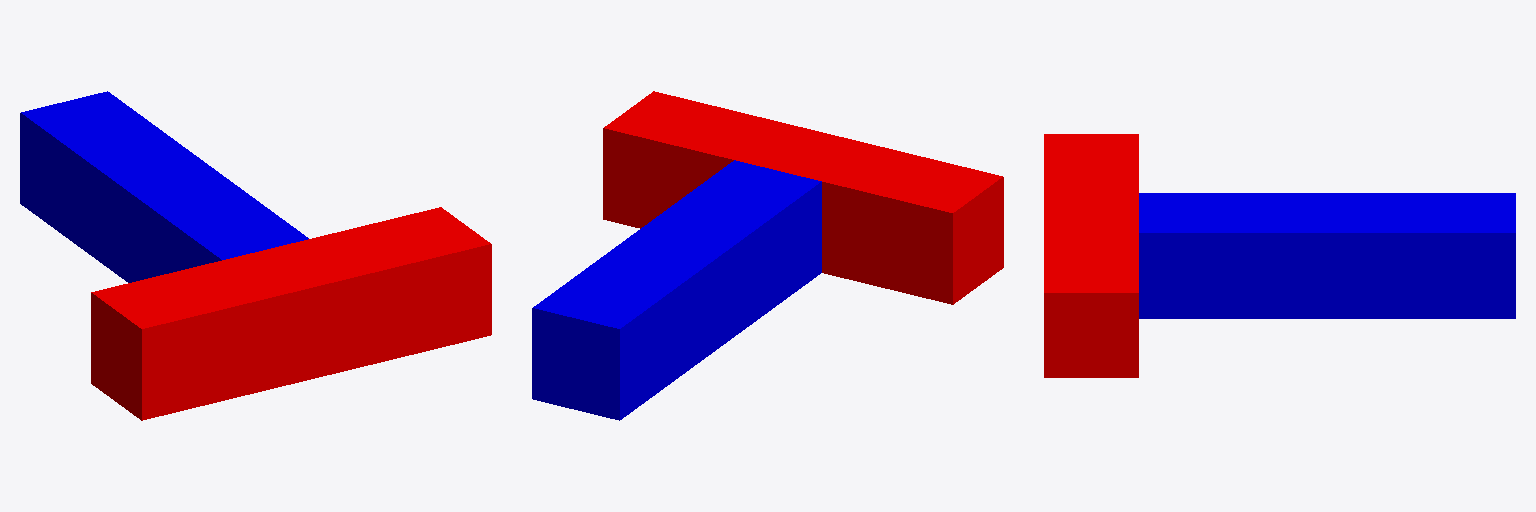
robot.urdf — t_shape:
<?xml version="1.0"?>
<robot name="t_shape">
  <!-- Base of the T -->
  <link name="base_link">
    <visual>
      <geometry>
        <box size="0.12 0.03 0.03"/> <!-- dimensions: length, width, height -->
      </geometry>
      <origin rpy="0 0 0" xyz="0 0 0"/>      
      <material>
          <color rgba="1 0 0 1"/> <!-- red color for visualization -->
      </material>
    </visual>
    <inertial>
        <origin rpy="0 0 0" xyz="0 0 0"/>
        <mass value="0.5"/>
        <inertia ixx="0.0004488" ixy="0" ixz="0" iyy="0.0004488" iyz="0" izz="0.0000363"/>
    </inertial>
    <collision>
      <geometry>
        <box size="0.12 0.03 0.03"/>
      </geometry>
      <origin rpy="0 0 0" xyz="0 0 0"/>
    </collision>
  </link>

  <!-- Vertical part of the T -->
  <link name="vertical_link">
    <visual>
      <geometry>
        <box size="0.12 0.03 0.03"/> <!-- dimensions: length, width, height -->
      </geometry>
      <origin rpy="0 0 0" xyz="0 0 0"/> <!-- offset to sit on top of base -->      
      <material>
          <color rgba="0 0 1 1"/> <!-- red color for visualization -->
      </material>
    </visual>
    <collision>
      <geometry>
        <box size="0.12 0.03 0.03"/>
      </geometry>
      <origin rpy="0 0 0" xyz="0 0 0"/>
    </collision>
  </link>

  <!-- Joint connecting base and vertical link -->
  <joint name="fixed_joint" type="fixed">
    <parent link="base_link"/>
    <child link="vertical_link"/>
    <origin xyz="0 0.075 0" rpy="0 0 1.5708"/>
  </joint>
</robot>

--- What the picture shows (computed from the rendered views, not written in the file) ---
3 views of the same robot in one strip: view 1: azimuth 30°, elevation 25°; view 2: azimuth 150°, elevation 25°; view 3: azimuth 270°, elevation 25° (orthographic).
Robot: t_shape — 2 links, 1 joints (1 fixed); root link base_link; default pose: all joints at 0.
Links seen in each view (by area): view 1: base_link, vertical_link; view 2: vertical_link, base_link; view 3: vertical_link, base_link.
Link boxes in pixels (x1=…): base_link: x1=91, y1=207, x2=491, y2=420; vertical_link: x1=20, y1=91, x2=308, y2=282; vertical_link: x1=532, y1=160, x2=821, y2=420; base_link: x1=603, y1=91, x2=1003, y2=304; vertical_link: x1=1139, y1=193, x2=1515, y2=318; base_link: x1=1044, y1=134, x2=1138, y2=377.
Bounding box of the posed robot: 0.12 × 0.15 × 0.03 m (x, y, z).
Geometry: primitives only (box / cylinder / sphere), no mesh files.
